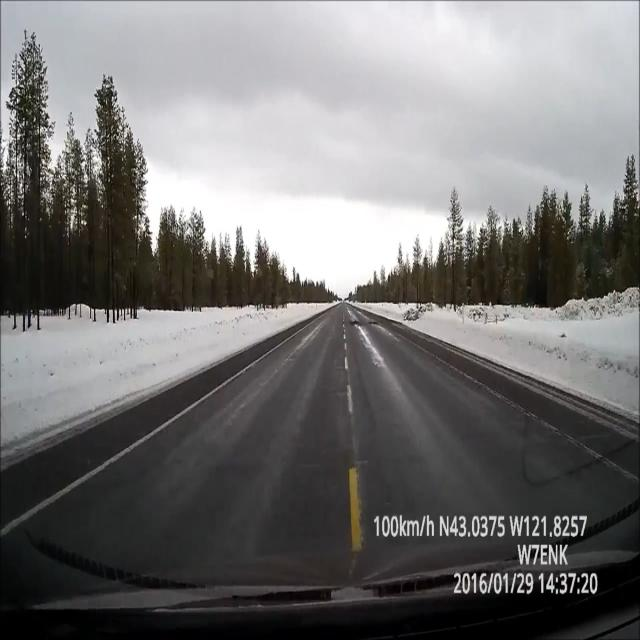Pothole: (348, 311, 379, 331)
